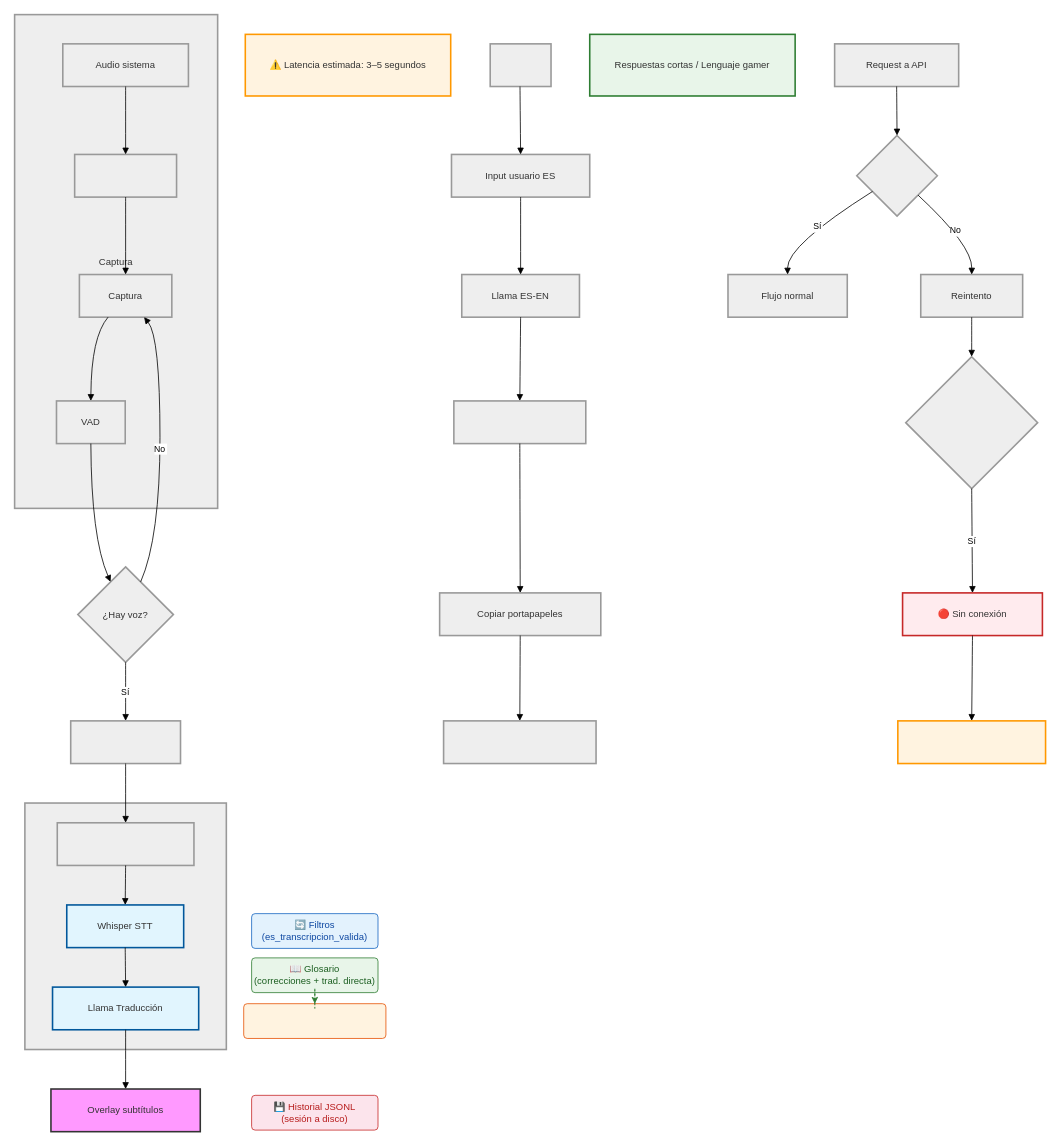
This 1059x1146 diagram has some shape labels left out. The shapes that lost their labels are listed below. From the top down, each one's centre as x and y in pixels, then its label:
At point 520,65: "F2".
At point 125,175: "VB-CABLE".
At point 897,175: "¿Éxito?".
At point 519,422: "Texto en inglés".
At point 971,422: "¿Sigue fallando?".
At point 125,742: "Buffer 1-2s".
At point 519,742: "Mostrar en overlay".
At point 971,742: "⚠️ Reconectando".
At point 125,844: "Conversión WAV".
At point 314,1020: "⏱ Throttle adaptativo 1.8s → ×1.6 on 429 → 8s max".
